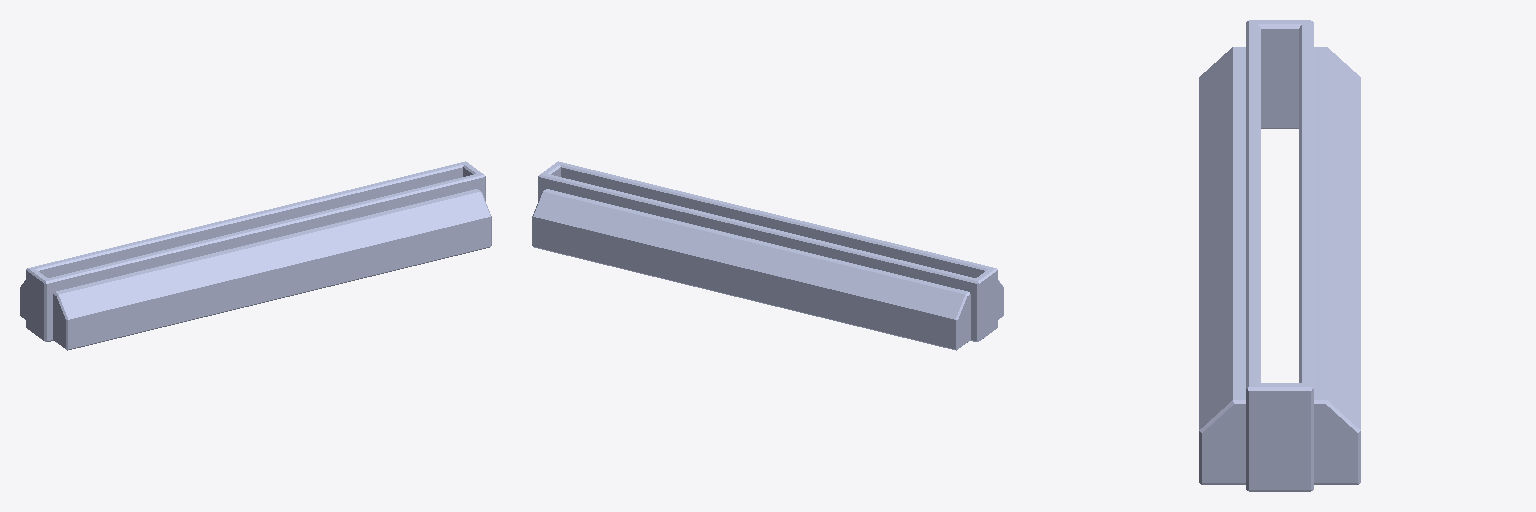
robot.urdf — Part1_holder.SLDPRT:
<?xml version="1.0" encoding="utf-8"?>
<!-- This URDF was automatically created by SolidWorks to URDF Exporter! Originally created by [author] ([email redacted]) 
     Commit Version: 1.5.1-0-g916b5db  Build Version: 1.5.7152.31018
     For more information, please see http://wiki.ros.org/sw_urdf_exporter -->
<robot
  name="Part1_holder.SLDPRT">
  <link
    name="Part1_holder.SLDPRT">
    <inertial>
      <origin
        xyz="2.485E-17 7.08302028712135E-18 0.015037"
        rpy="0 0 0" />
      <mass
        value="0.31786" />
      <inertia
        ixx="0.00010615"
        ixy="4.7361E-19"
        ixz="1.1073E-19"
        iyy="0.0020593"
        iyz="1.19591465118309E-20"
        izz="0.0021112" />
    </inertial>
    <visual>
      <origin
        xyz="0 0 0"
        rpy="0 0 0" />
      <geometry>
        <mesh
          filename="package://env_setting/meshes/Part1_holder.SLDPRT.STL" />
      </geometry>
      <material
        name="">
        <color
          rgba="0.79216 0.81961 0.93333 1" />
      </material>
    </visual>
    <collision>
      <origin
        xyz="0 0 0"
        rpy="0 0 0" />
      <geometry>
        <mesh
          filename="package://env_setting/meshes/Part1_holder.SLDPRT.STL" />
      </geometry>
    </collision>
  </link>
  <gazebo reference="Part1_holder.SLDPRT">
    <kp>1000000.0</kp>
    <kd>1.0</kd>
    <mu1>100000</mu1>
    <mu2>100000</mu2>
    <maxVel>0</maxVel>
    <minDepth>0.0001</minDepth>
  </gazebo>  
</robot>

--- What the picture shows (computed from the rendered views, not written in the file) ---
Views: 3 orthographic renders of the robot side by side, from view 1: azimuth 30°, elevation 25°; view 2: azimuth 150°, elevation 25°; view 3: azimuth 270°, elevation 25°.
Model Part1_holder.SLDPRT with 1 links and 0 joints (none), rooted at Part1_holder.SLDPRT, posed all joints at 0.
Links seen in each view (by area): view 1: Part1_holder.SLDPRT; view 2: Part1_holder.SLDPRT; view 3: Part1_holder.SLDPRT.
Boxes of the visible links, x1=… form: Part1_holder.SLDPRT: x1=20, y1=161, x2=491, y2=350; Part1_holder.SLDPRT: x1=532, y1=161, x2=1003, y2=350; Part1_holder.SLDPRT: x1=1199, y1=20, x2=1360, y2=491.
Size in the robot's own frame: 0.28 by 0.052 by 0.037 metres.
Meshes: 1 distinct files referenced, 1 mesh visuals loaded (1 binary STL).